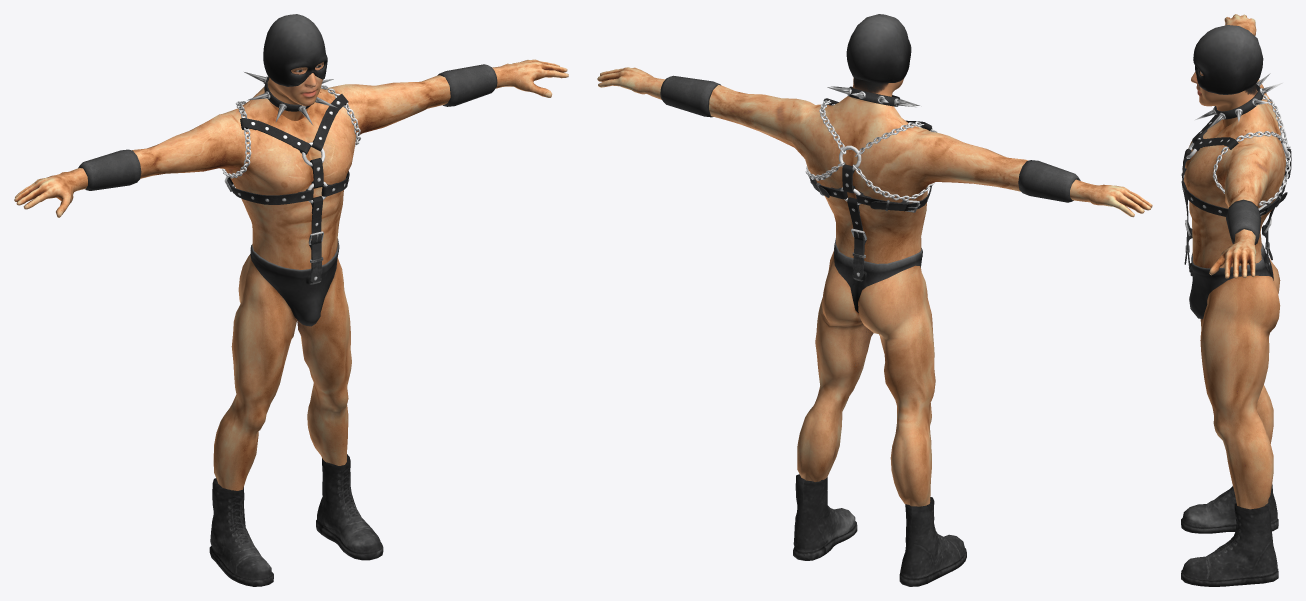
File: van_darkholme.glb
The picture shows the model from 3 angles, left to right: view 1: azimuth 30°, elevation 25°; view 2: azimuth 150°, elevation 25°; view 3: azimuth 270°, elevation 25°; orthographic projection. The views are drawn at different scales.
Visible parts, largest first — view 1: Object_3, Object_2, Object_5, Object_6, Object_4; view 2: Object_3, Object_5, Object_2, Object_6, Object_7; view 3: Object_2, Object_5, Object_3, Object_6, Object_4, Object_7.
Part boxes in pixels (x1,y1,x2,y2): Object_3: [14, 59, 568, 269]; Object_2: [78, 14, 497, 586]; Object_5: [213, 254, 351, 490]; Object_6: [222, 72, 349, 284]; Object_4: [267, 62, 323, 120]; Object_3: [597, 67, 1152, 263]; Object_5: [797, 251, 935, 506]; Object_2: [660, 14, 1080, 586]; Object_6: [808, 86, 936, 281]; Object_7: [805, 100, 937, 200]; Object_2: [1181, 25, 1291, 586]; Object_5: [1200, 258, 1280, 509]; Object_3: [1183, 14, 1285, 278]; Object_6: [1182, 73, 1291, 276]; Object_4: [1191, 71, 1257, 127]; Object_7: [1186, 95, 1290, 270].
Bounding box in the file's own units: 74.48 × 69.57 × 13.31.
Materials: 5 (5 with a texture image).
